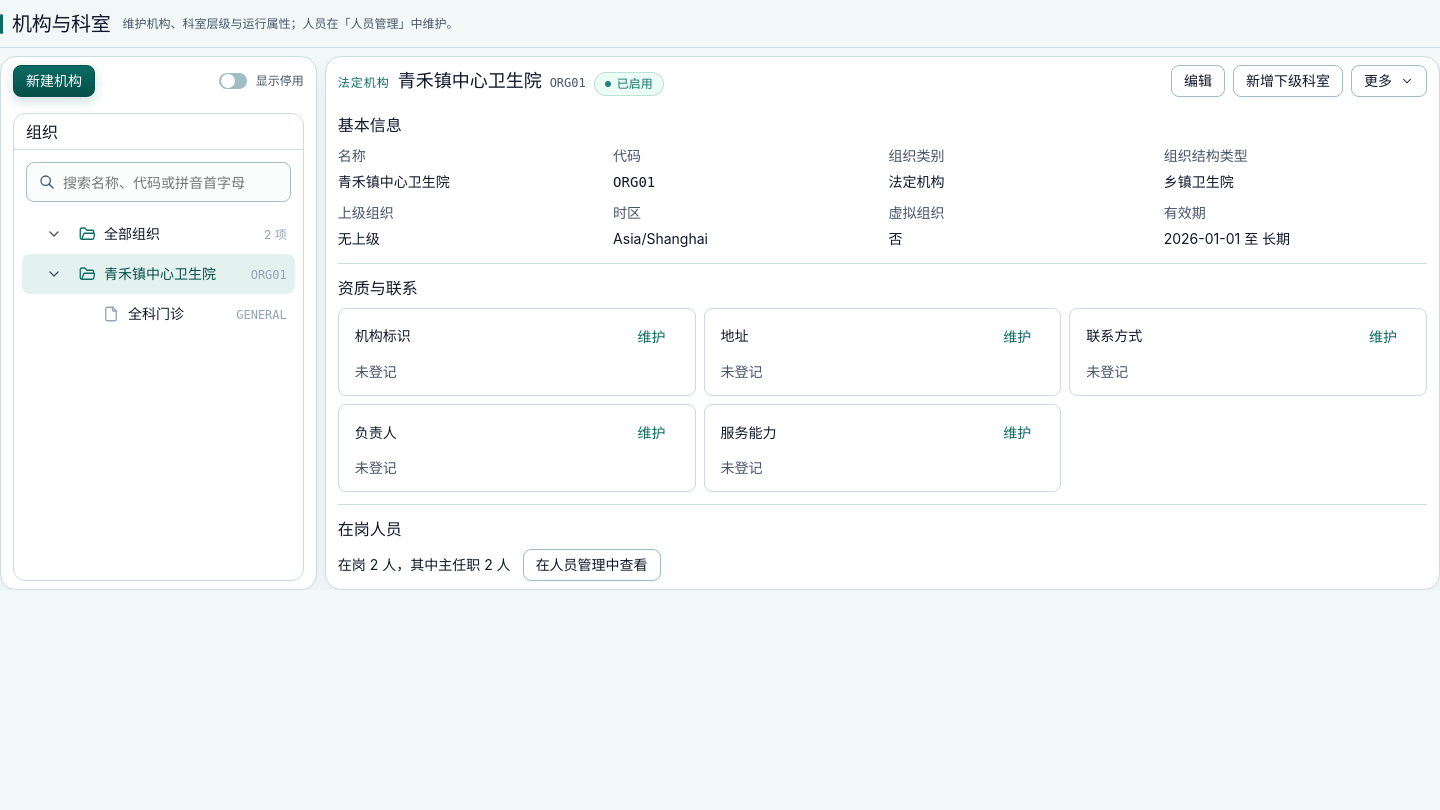
Test: OrganizationsPage › keeps the dialog and input when saving fails
Click the button "编辑" at {"x": 1198, "y": 81}, box [1171,65,1225,97]
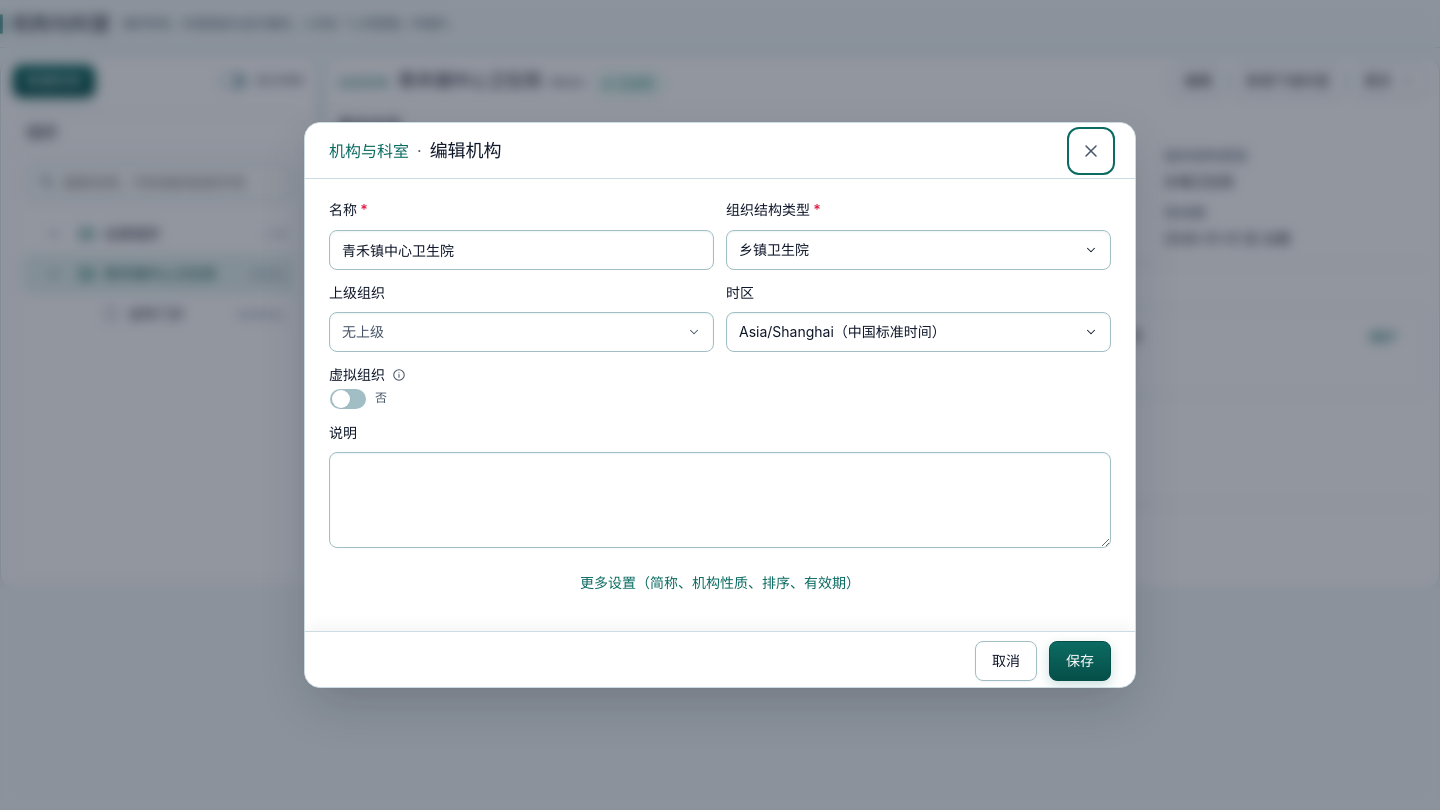
Type "草稿" into the field labelled "名称*" at {"x": 522, "y": 250}, box [329,230,714,270]
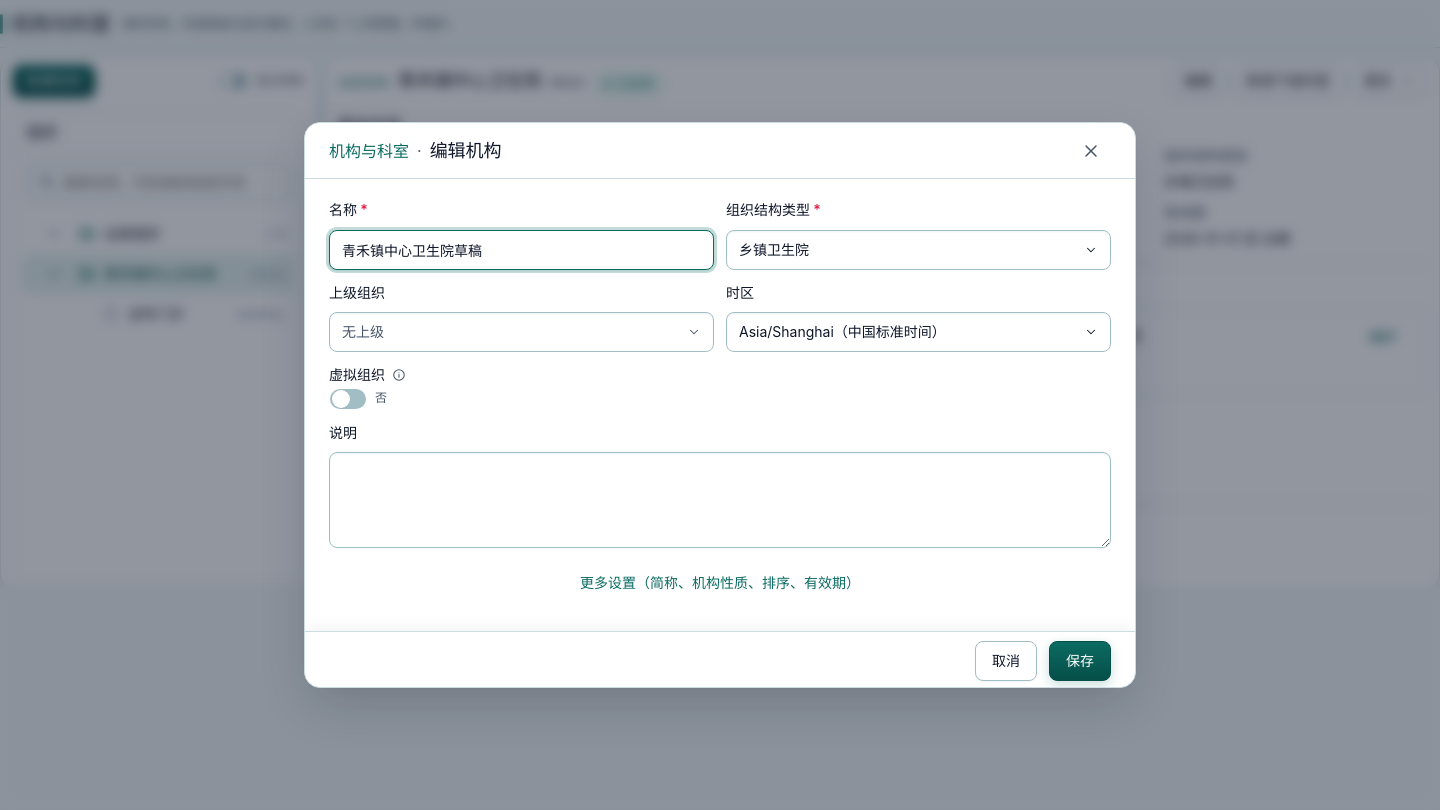
Click the button "保存" at {"x": 1080, "y": 661}, box [1049,641,1111,681]
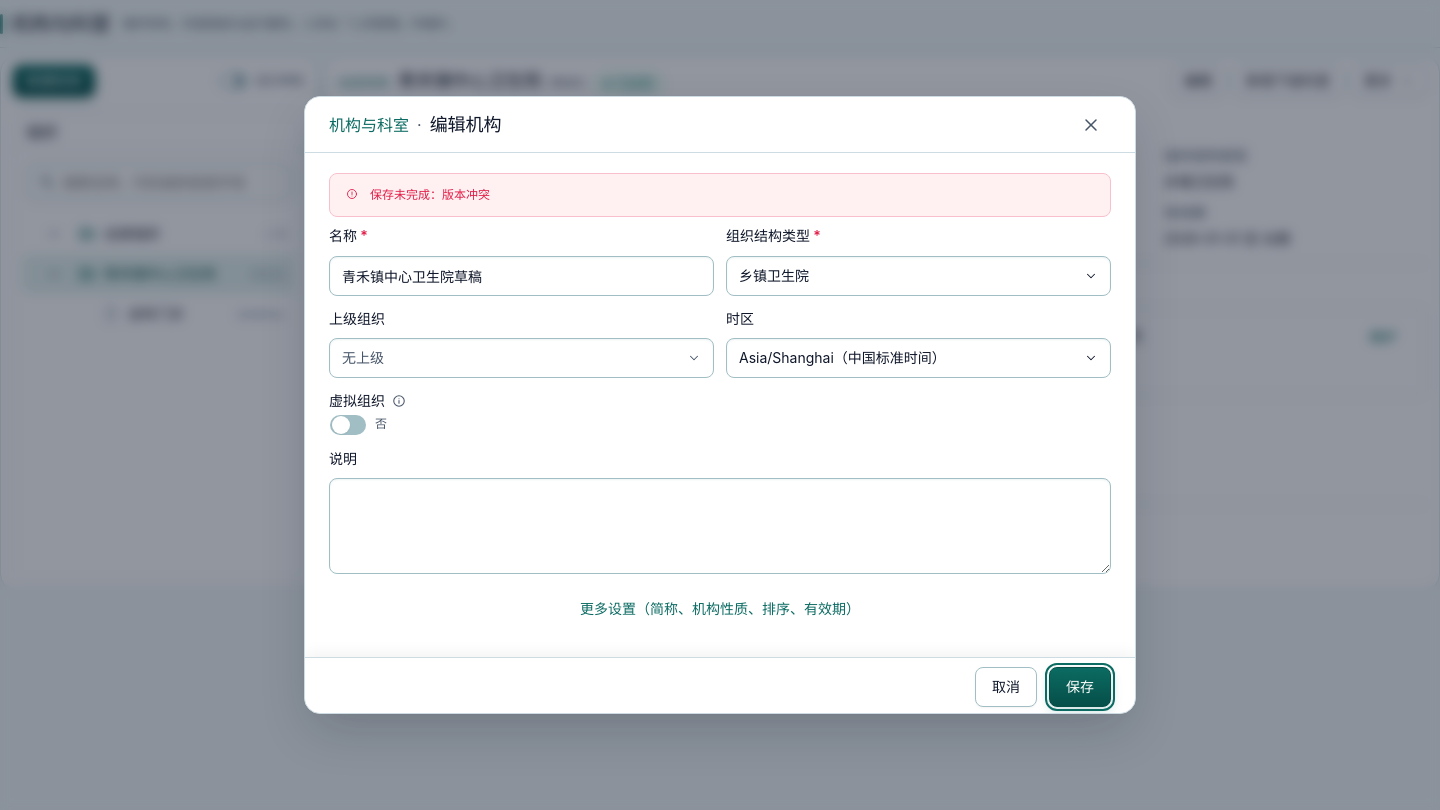
Expected: the field labelled "名称*" holds "青禾镇中心卫生院草稿", [329,256,714,296]
Expected: the text "保存未完成：版本冲突" is shown, [370,187,490,202]
